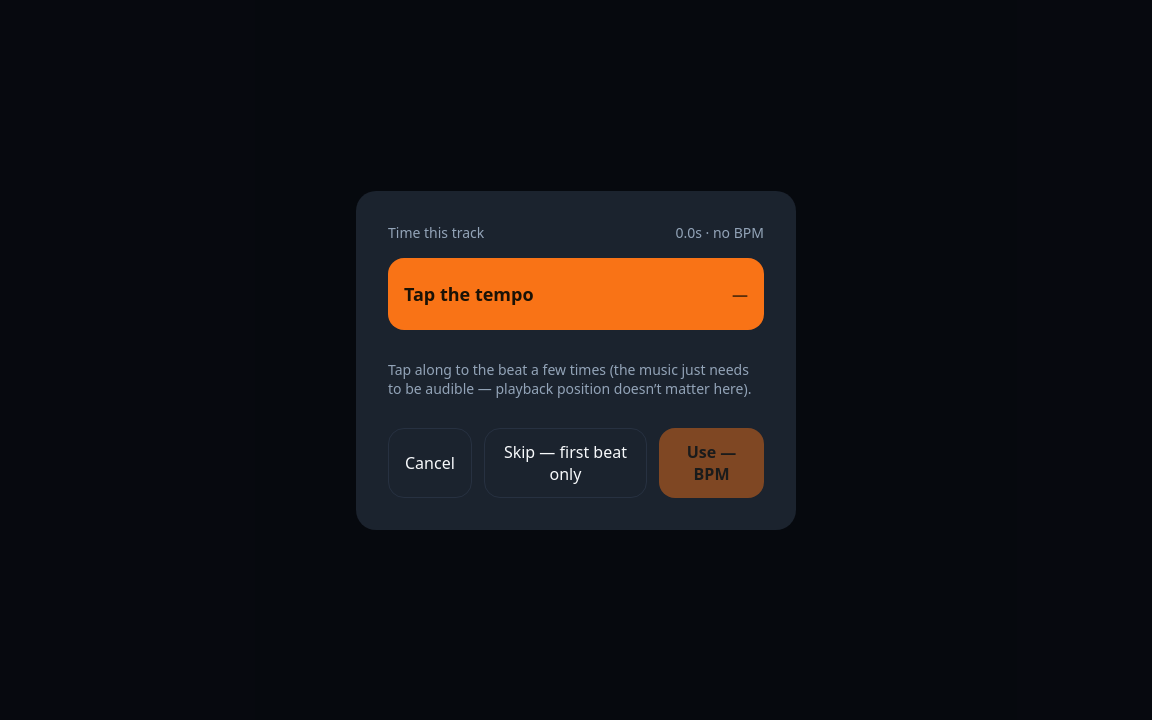
Scenario: TimingFlow › caps at the first-beat tap when no BPM exists and the tempo stop was skipped
Click the button "Skip — first beat only".
click(565, 462)  # box [484,428,647,498]
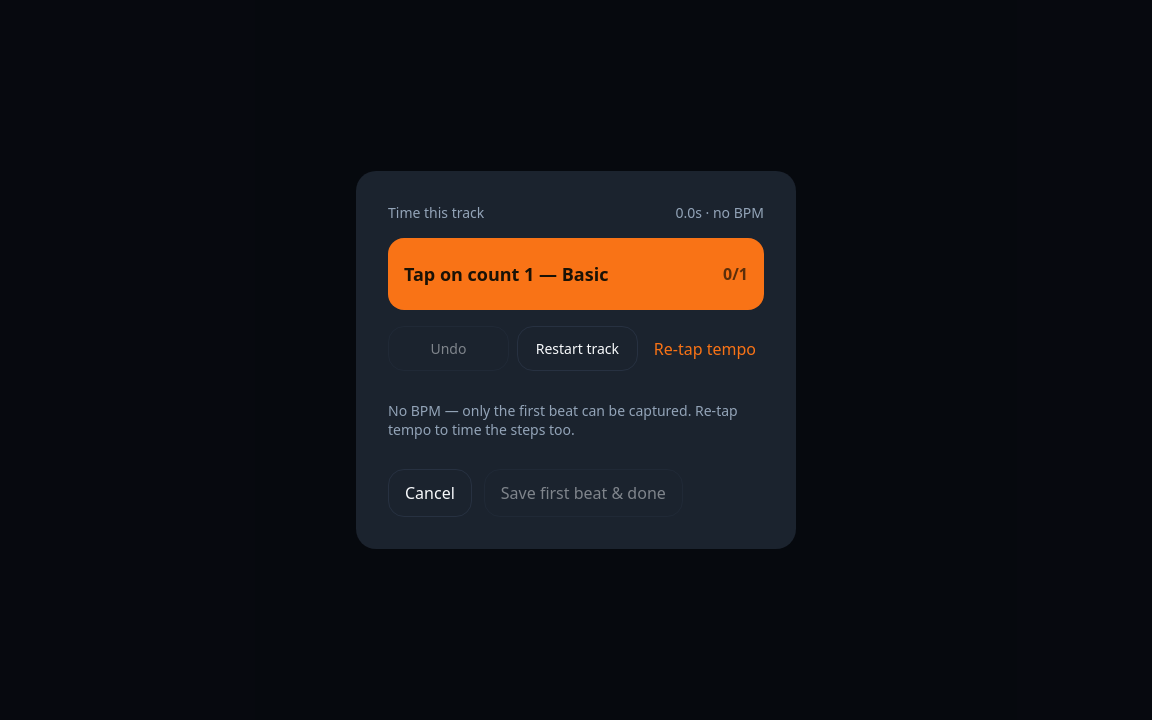
Expected: the text "0/1" is shown, [723,263,748,285]
